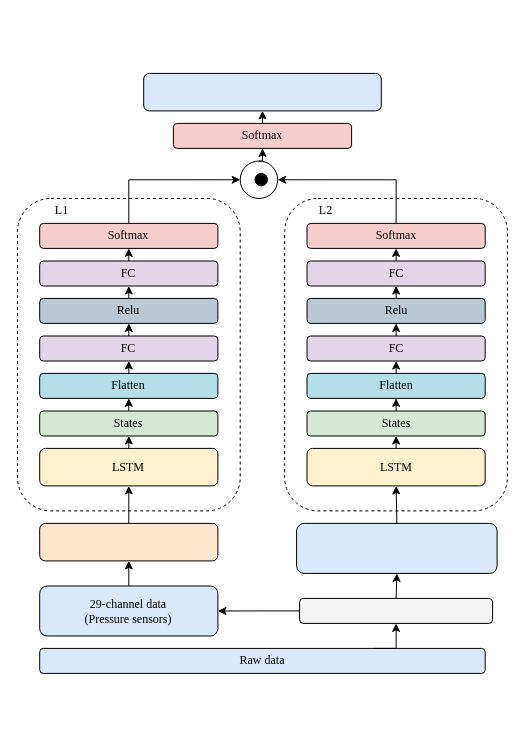
This 525x747 diagram has some shape labels left out. The box of each missing label's shape, as (x1, y1, x2, y2) in pixels:
6-channel data (Tri-axial accelerometer): (296, 522, 497, 573)
Emmebed Encoder: (39, 522, 218, 561)
Fall directions (One-hot): (143, 72, 381, 111)
Preprocessing: (299, 597, 493, 623)
